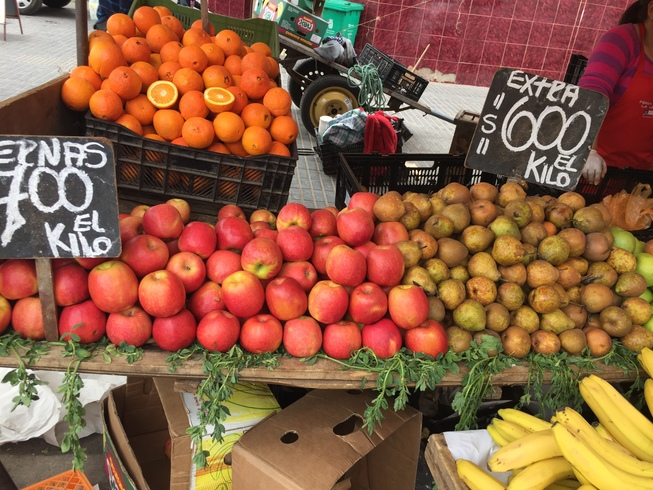precio: (462, 64, 616, 204), (1, 130, 137, 267)
